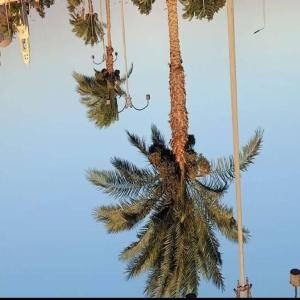palm tree: (83, 0, 262, 296)
